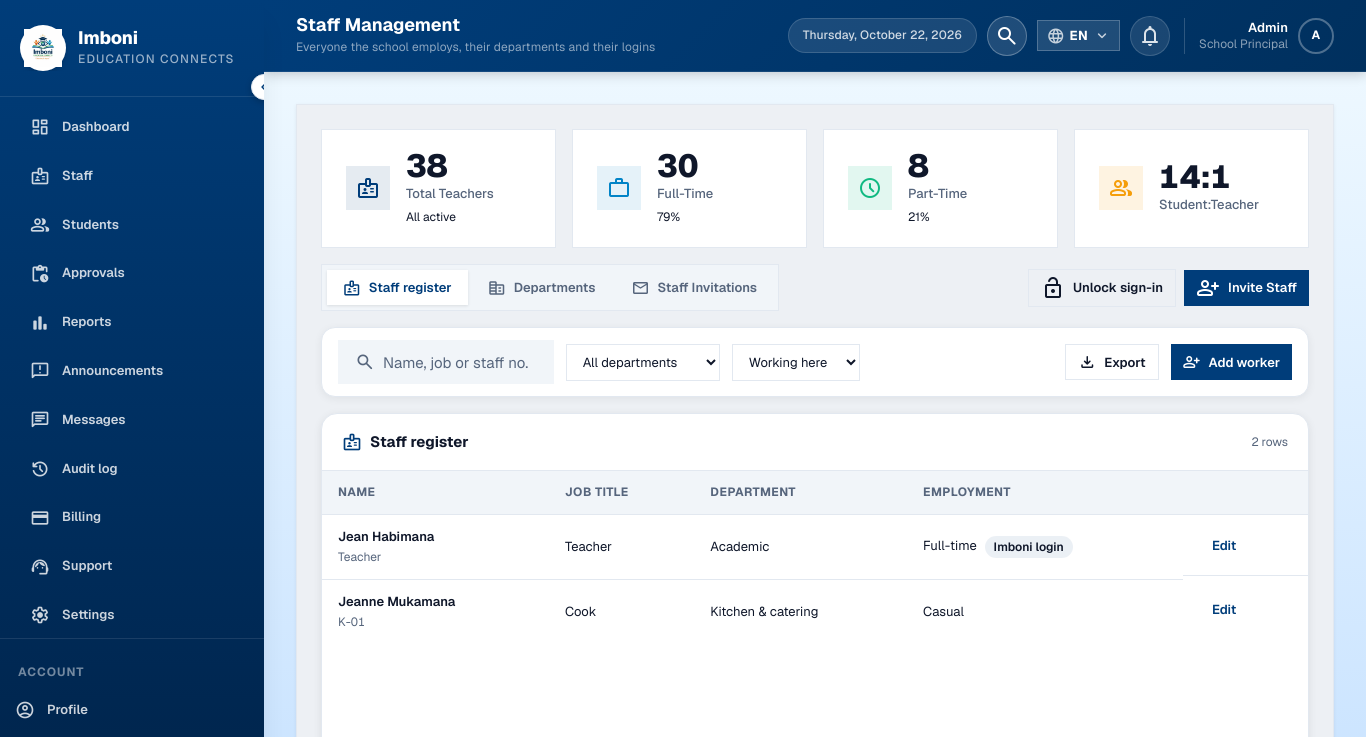
Test: AdminStaff › validates required fields before sending an invite, then submits successfully
Expected: the text "Jean Habimana" is shown, [338,528,434,545]
Click the button "Invite Staff". click: (1246, 288)
box: [1184,270,1309,306]
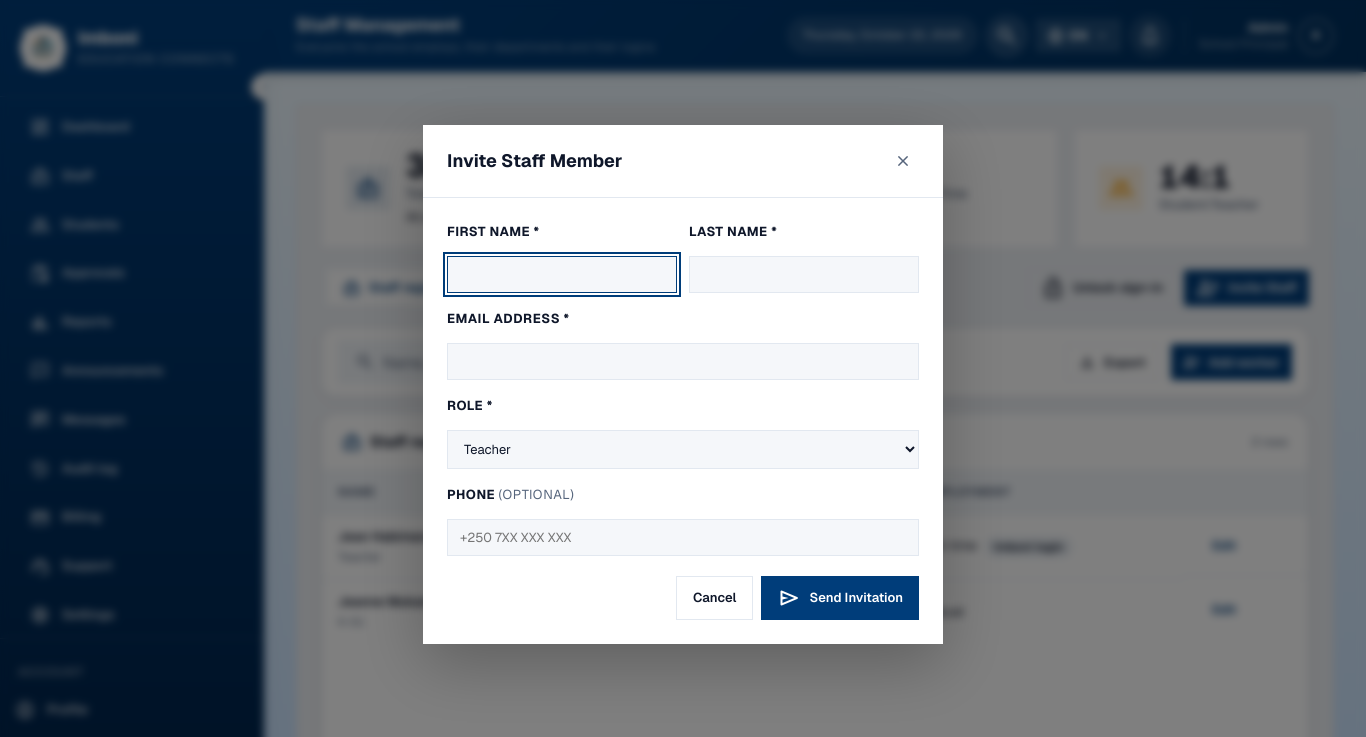
Click the button "Send Invitation". click: (840, 598)
box: [761,576,919,620]
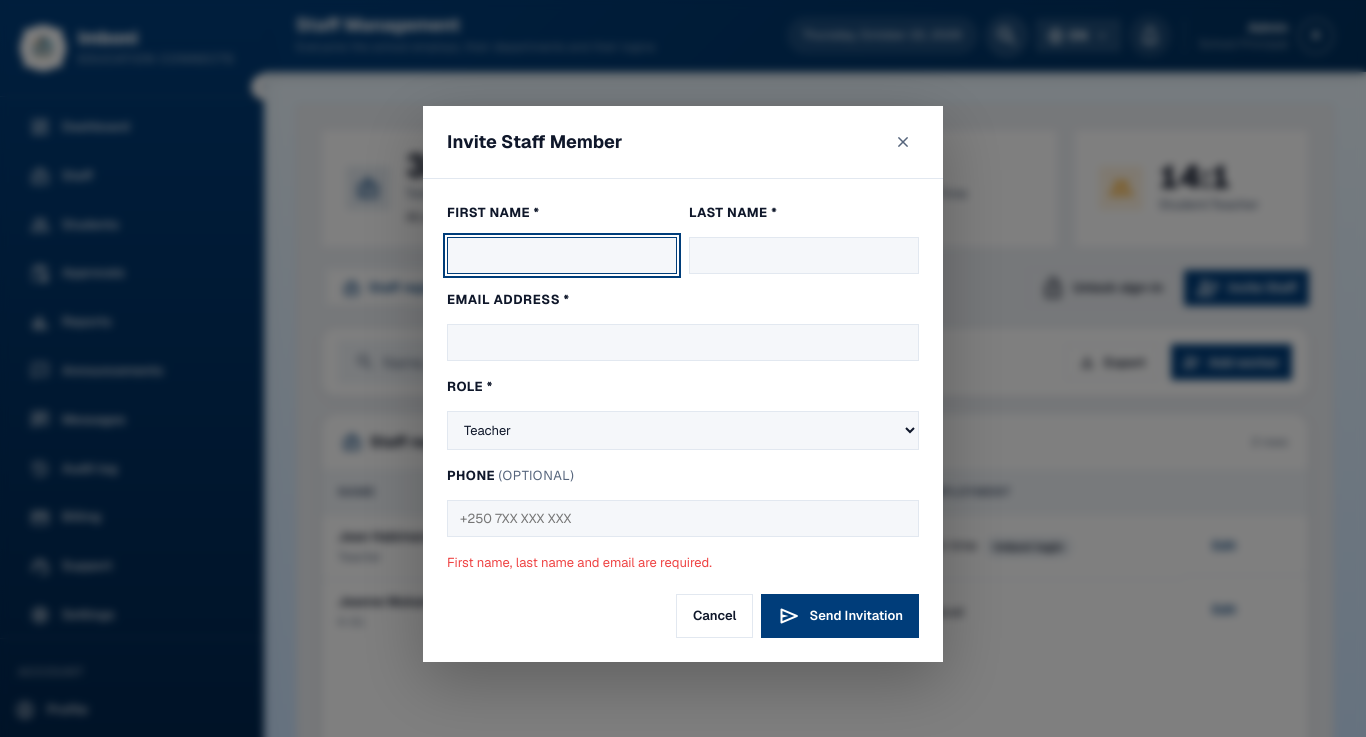
Result: the text "First name, last name and email are required." is shown at [447,554,712,571]
Type "New" into the field labelled "First Name *". click: (562, 256)
box: [447,238,677,274]
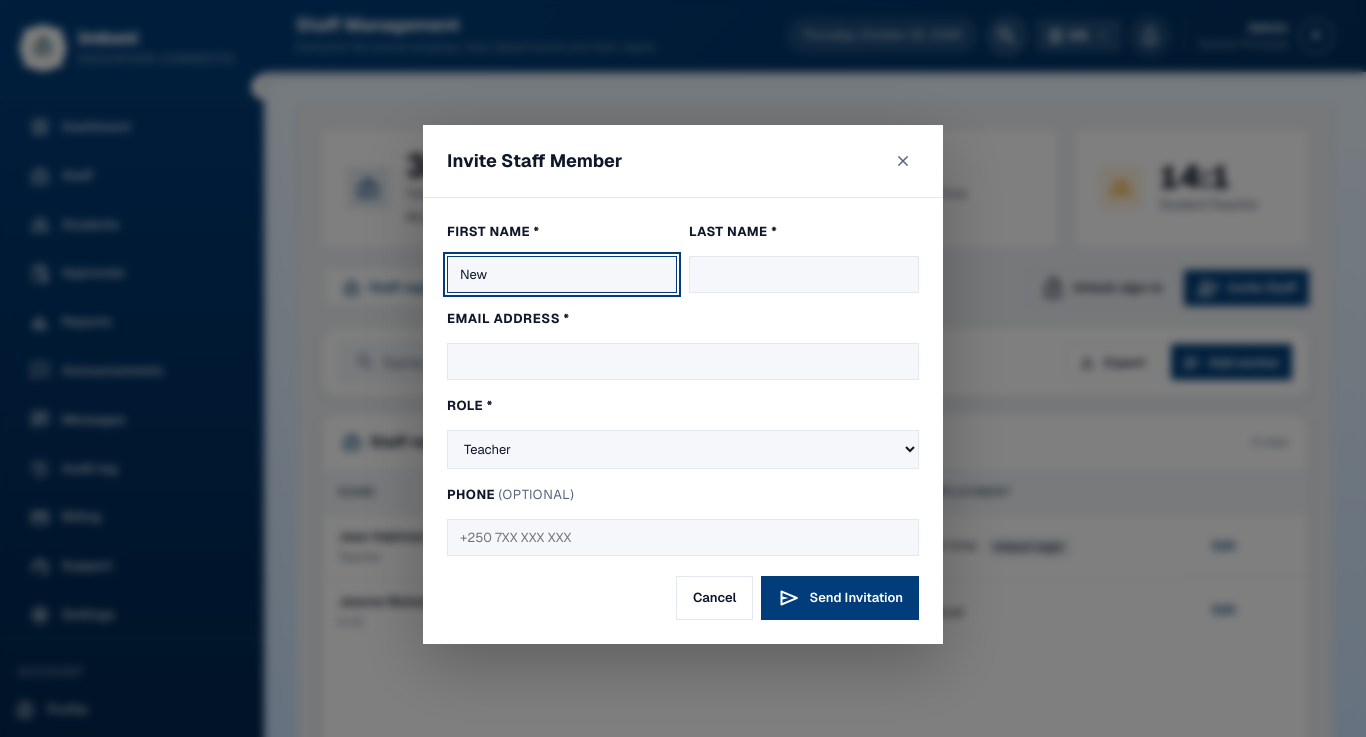
Type "Hire" into the field labelled "Last Name *". click: (804, 274)
box: [689,256,919,292]
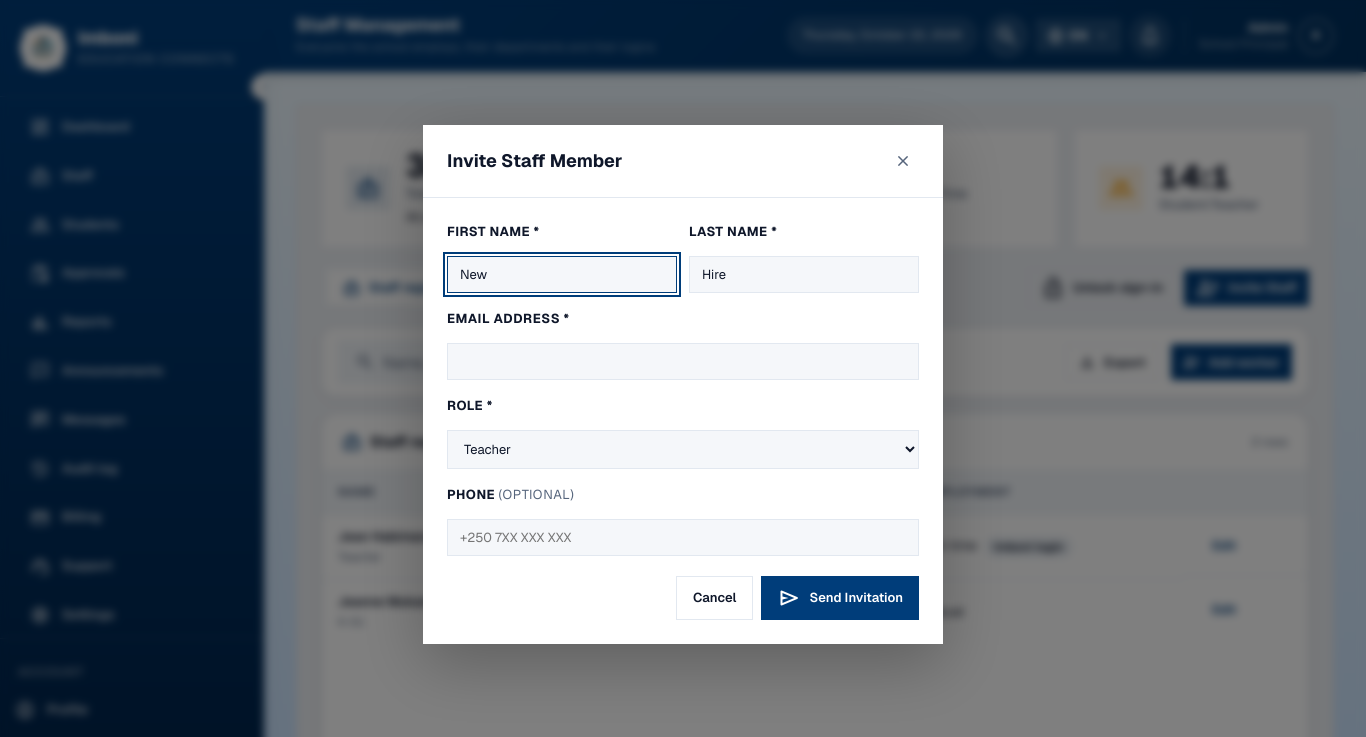
Type "new@imboni.test" into the field labelled "Email Address *". click: (683, 361)
box: [447,343,919,380]
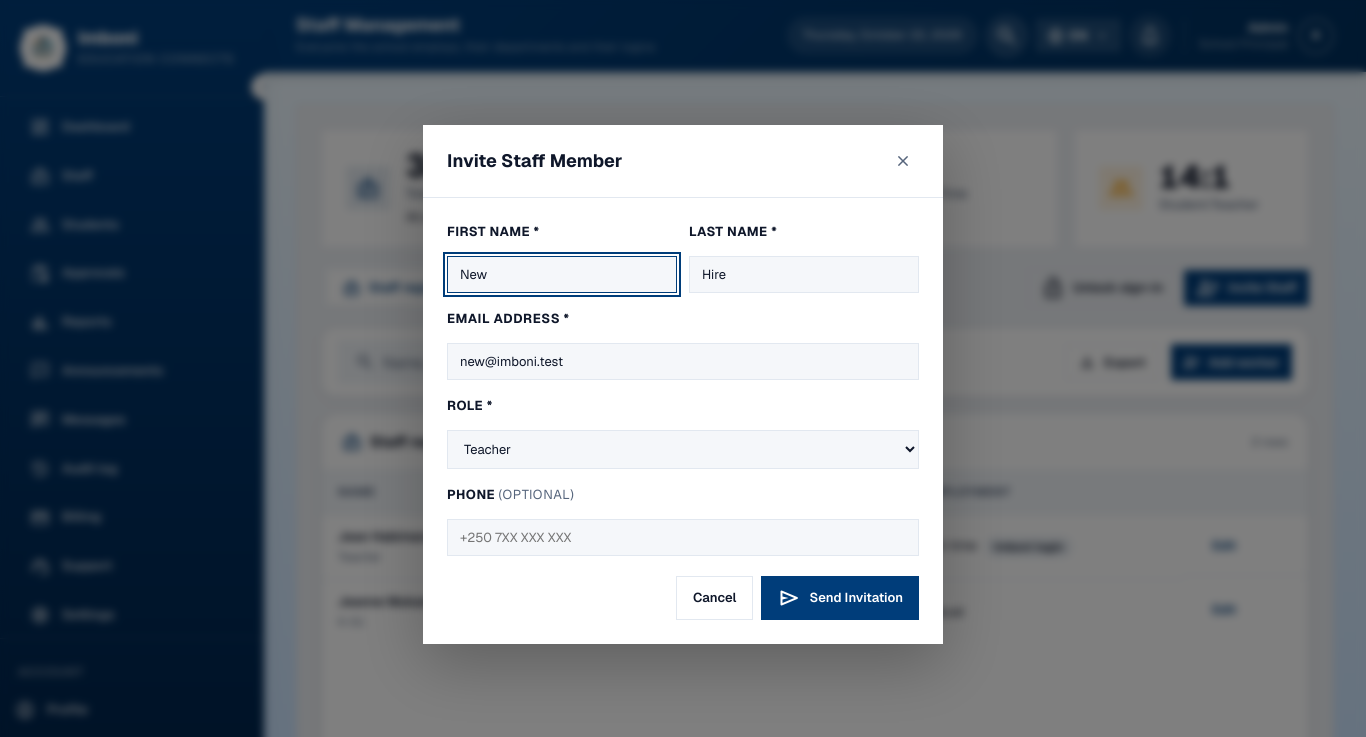
Click the button "Send Invitation". click: (840, 598)
box: [761,576,919,620]
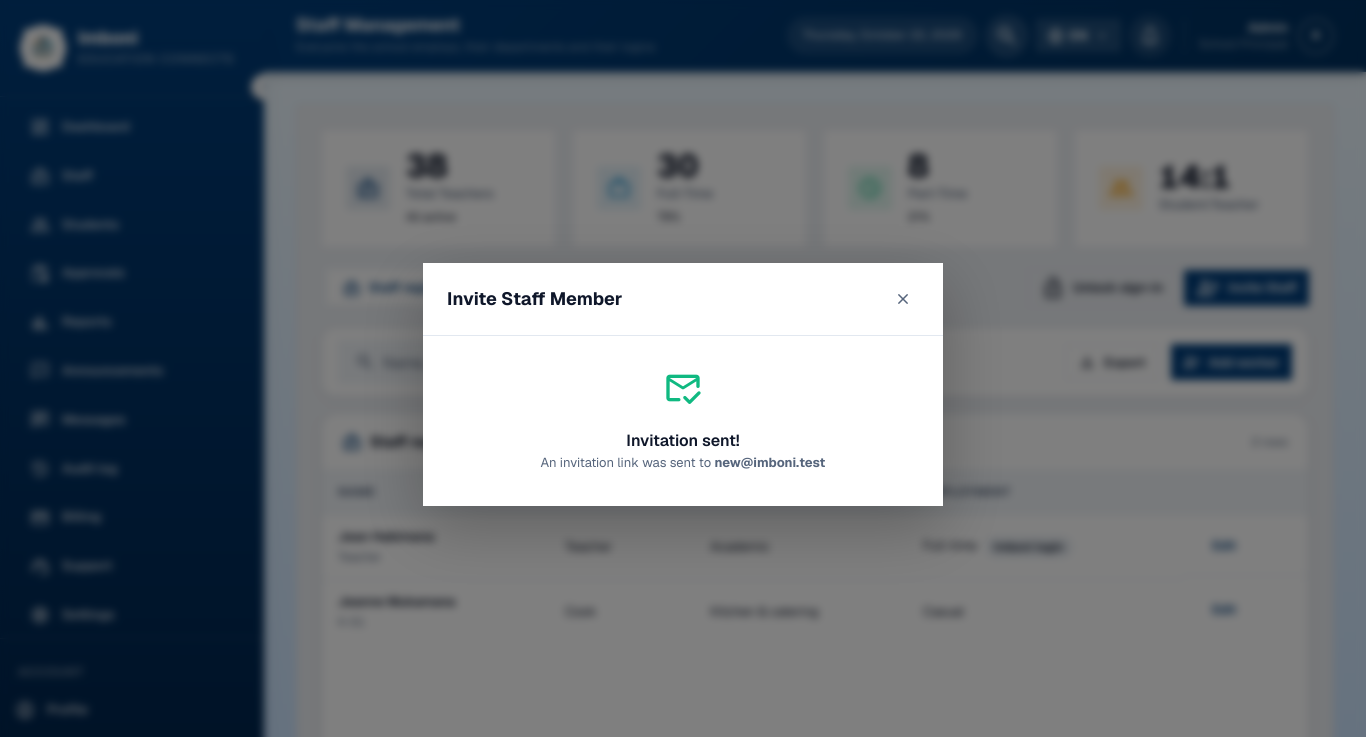
Result: the text "Invitation sent!" is shown at [626,429,740,450]
